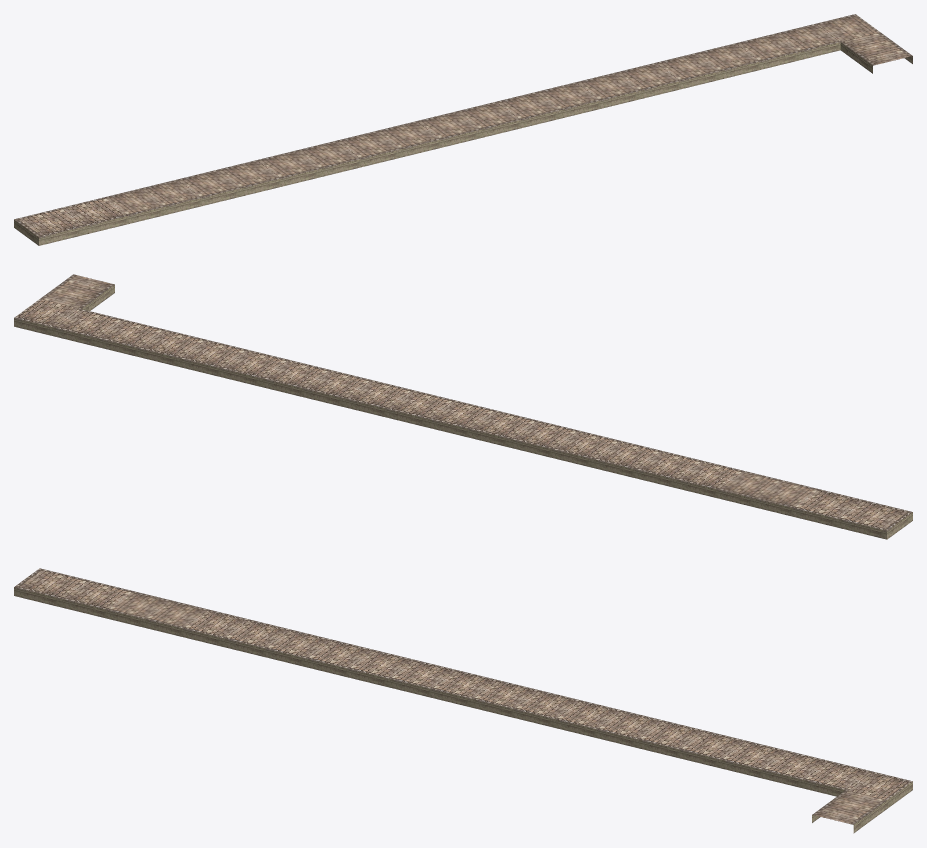
File: guodao2.FBX
3 renders of one model, top to bottom at view 1: azimuth 30°, elevation 25°; view 2: azimuth 150°, elevation 25°; view 3: azimuth 330°, elevation 25°, orthographic. The views are drawn at different scales.
Parts seen in each view (by area): view 1: Plane818; view 2: Plane818; view 3: Plane818.
Part boxes in pixels (box(x1,y1,x2,y2)): Plane818: box(14, 14, 912, 245); Plane818: box(14, 274, 912, 539); Plane818: box(14, 568, 912, 833).
Bounding box in the file's own units: 2379 × 22.89 × 281.
